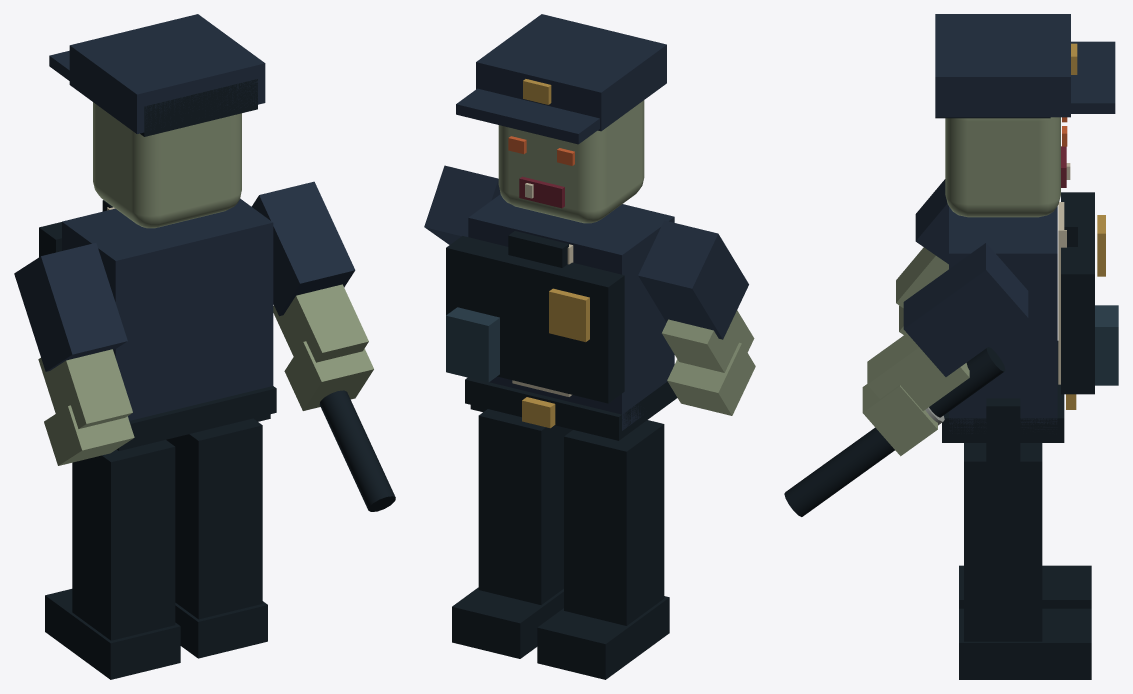
Rendered from enemy-security.glb.
3 renders of one model, left to right at view 1: azimuth 30°, elevation 25°; view 2: azimuth 150°, elevation 25°; view 3: azimuth 270°, elevation 25°, orthographic. The views are drawn at different scales.
Visible parts, largest first — view 1: Body, Head, LegL, LegR, ArmR, ArmL; view 2: Body, Head, LegL, LegR, ArmL, ArmR; view 3: Head, Body, ArmR, LegR, ArmL, LegL.
Part boxes in pixels (bbox=[...]): Body: bbox=[39, 198, 276, 450]; Head: bbox=[49, 14, 265, 228]; LegL: bbox=[45, 440, 180, 679]; LegR: bbox=[166, 418, 267, 658]; ArmR: bbox=[251, 181, 395, 511]; ArmL: bbox=[14, 243, 134, 465]; Body: bbox=[446, 194, 677, 440]; Head: bbox=[456, 14, 666, 223]; LegL: bbox=[537, 420, 669, 679]; LegR: bbox=[452, 409, 572, 658]; ArmL: bbox=[638, 220, 755, 415]; ArmR: bbox=[424, 165, 500, 244]; Head: bbox=[935, 14, 1115, 217]; Body: bbox=[942, 192, 1118, 476]; ArmR: bbox=[784, 243, 1028, 516]; LegR: bbox=[959, 443, 1091, 679]; ArmL: bbox=[896, 179, 948, 334]; LegL: bbox=[959, 565, 1091, 608].
Bounding box in the file's own units: 0.95 × 1.93 × 0.9846.
